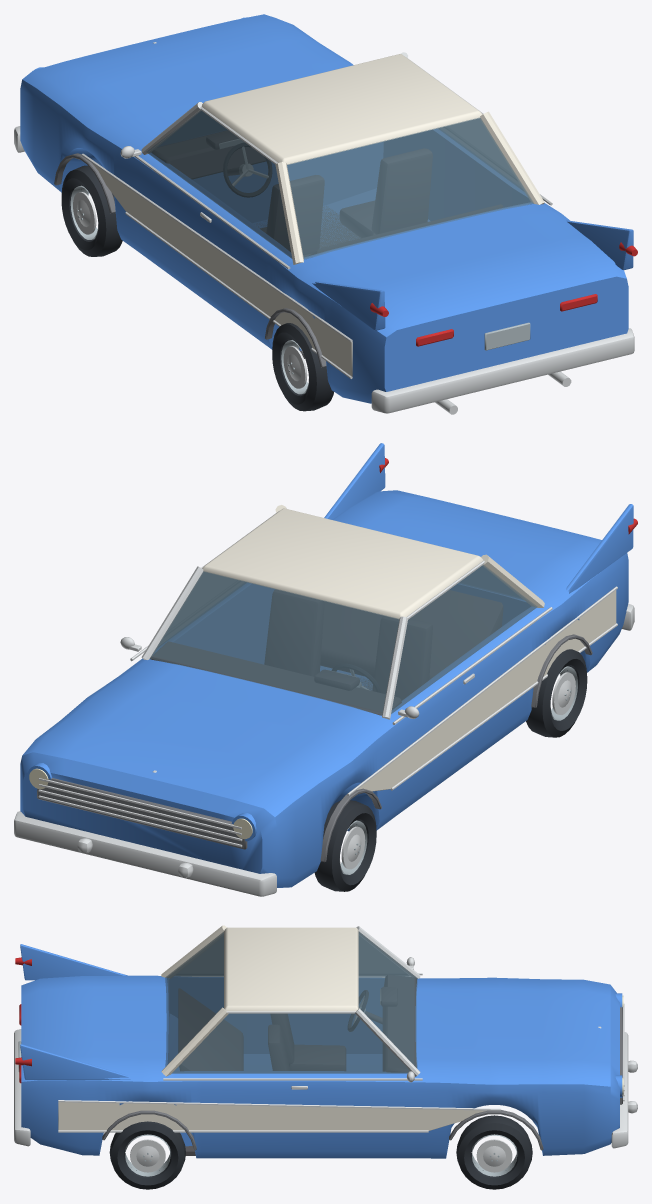
Rendered from Skyfin.fbx.
3 renders of one model, top to bottom at view 1: azimuth 30°, elevation 25°; view 2: azimuth 150°, elevation 25°; view 3: azimuth 270°, elevation 25°, orthographic. The views are drawn at different scales.
Parts seen in each view (by area): view 1: Body__paint, Body__glass, Body__cream, Body__interior, Body__chrome, WheelFL__rubber, WheelRL__rubber, Body__engine, Body__tail, Body__metal, WheelFL__chrome, WheelRL__chrome; view 2: Body__paint, Body__glass, Body__cream, Body__interior, Body__chrome, Body__engine, WheelFL__rubber, WheelRL__rubber, WheelRL__chrome, WheelFL__chrome; view 3: Body__paint, Body__cream, Body__glass, Body__interior, Body__chrome, WheelFR__rubber, WheelRR__rubber, Body__engine, WheelFR__chrome, WheelRR__chrome, WheelRR__metal, WheelFR__metal.
Boxes of the visible parts, x1,y1,x2,y2 form: Body__paint: (20,14,633,403); Body__glass: (146,110,533,259); Body__cream: (92,54,544,376); Body__interior: (152,131,502,358); Body__chrome: (14,42,634,414); WheelFL__rubber: (61,165,122,256); WheelRL__rubber: (272,323,333,411); Body__engine: (54,153,326,367); Body__tail: (370,242,637,346); Body__metal: (219,139,530,350); WheelFL__chrome: (73,192,96,234); WheelRL__chrome: (283,346,307,388); Body__paint: (20,443,633,887); Body__glass: (150,565,537,715); Body__cream: (202,505,616,791); Body__interior: (150,590,502,715); Body__chrome: (14,511,634,896); Body__engine: (37,634,592,862); WheelFL__rubber: (314,800,376,891); WheelRL__rubber: (526,649,587,737); WheelRL__chrome: (552,672,575,714); WheelFL__chrome: (341,826,365,869); Body__paint: (20,944,622,1158); Body__cream: (58,925,486,1130); Body__glass: (165,931,417,1073); Body__interior: (178,975,416,1155); Body__chrome: (14,926,637,1148); WheelFR__rubber: (456,1115,532,1189); WheelRR__rubber: (109,1121,185,1189); Body__engine: (102,1007,622,1150); WheelFR__chrome: (476,1139,512,1172); WheelRR__chrome: (130,1139,165,1172); WheelRR__metal: (125,1134,170,1176); WheelFR__metal: (472,1134,517,1176).
Bounding box in the file's own units: 2.36 × 1.57 × 5.22.
